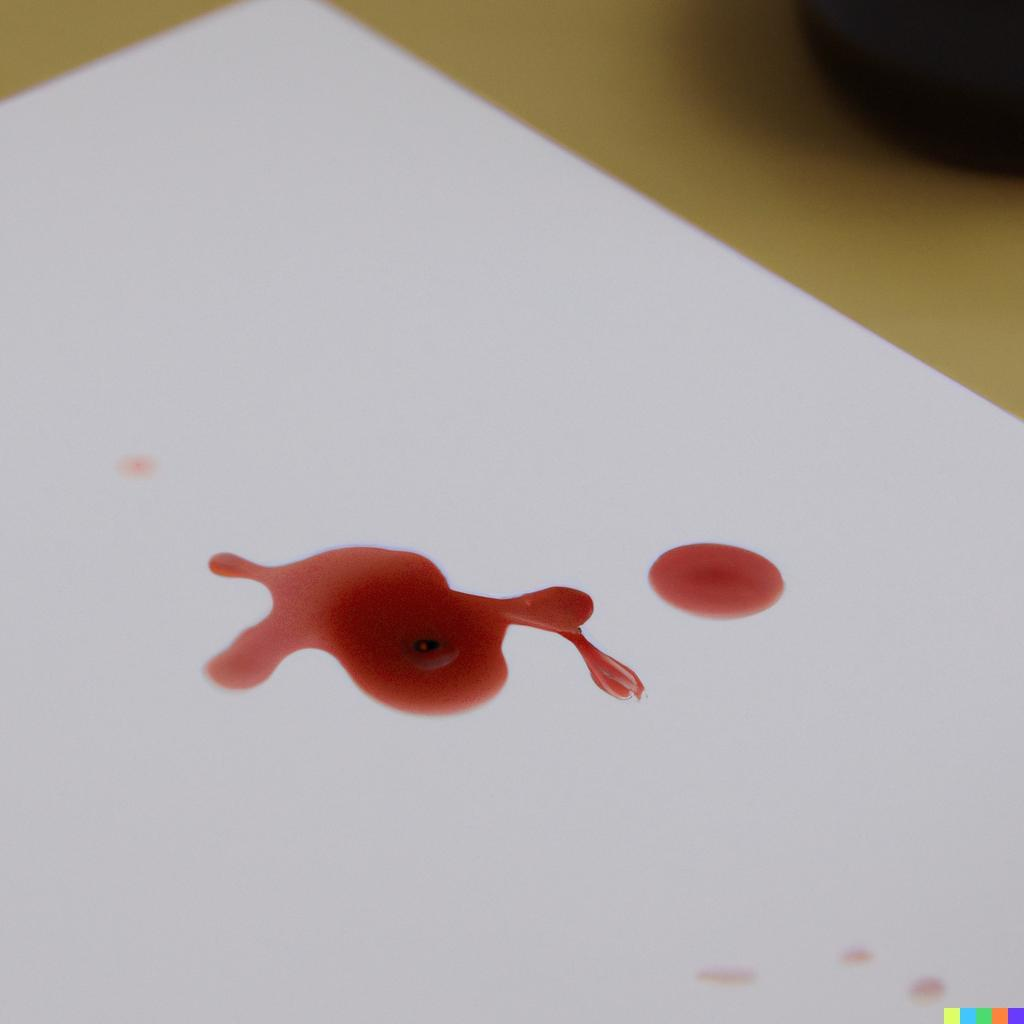Fire: (204, 547, 645, 716), (647, 543, 785, 620)
